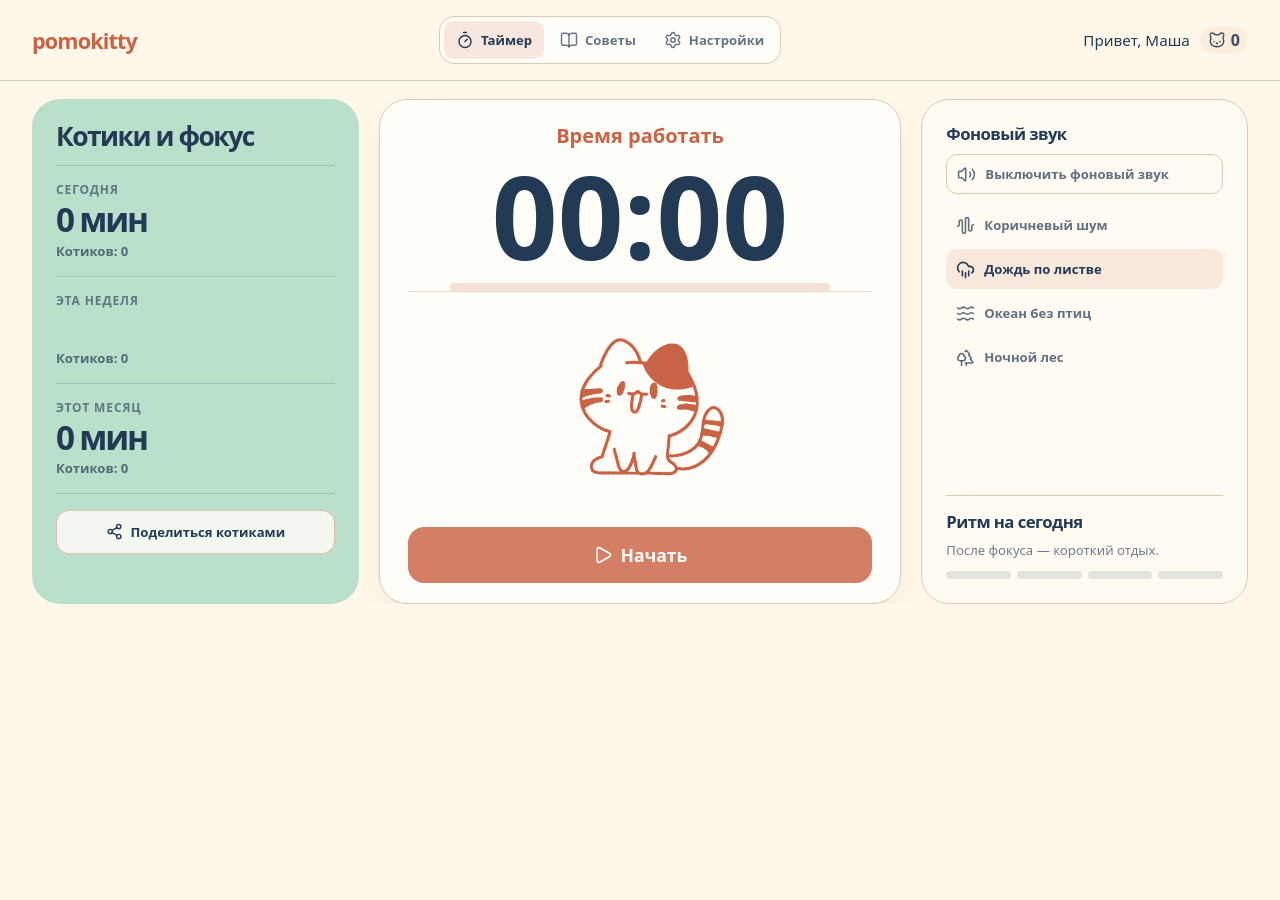
Test: persists a setting locale change and passes the effective locale to visible app copy
Step 1. Click the button "Настройки" → (714, 40), box [652,21,776,59]
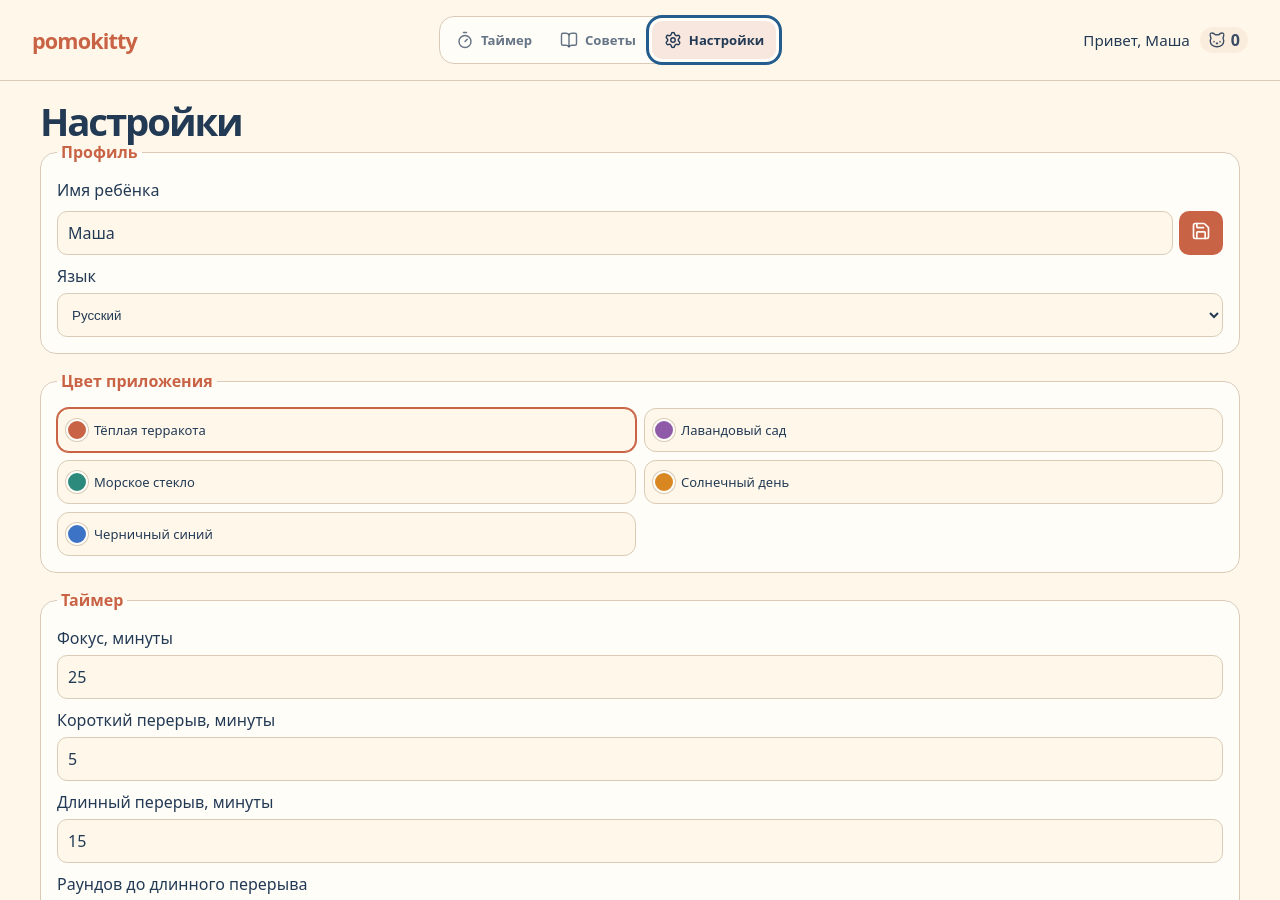
Step 2. Select "Английский" in the dropdown labelled "Язык" → (640, 315), box [57,293,1223,337]
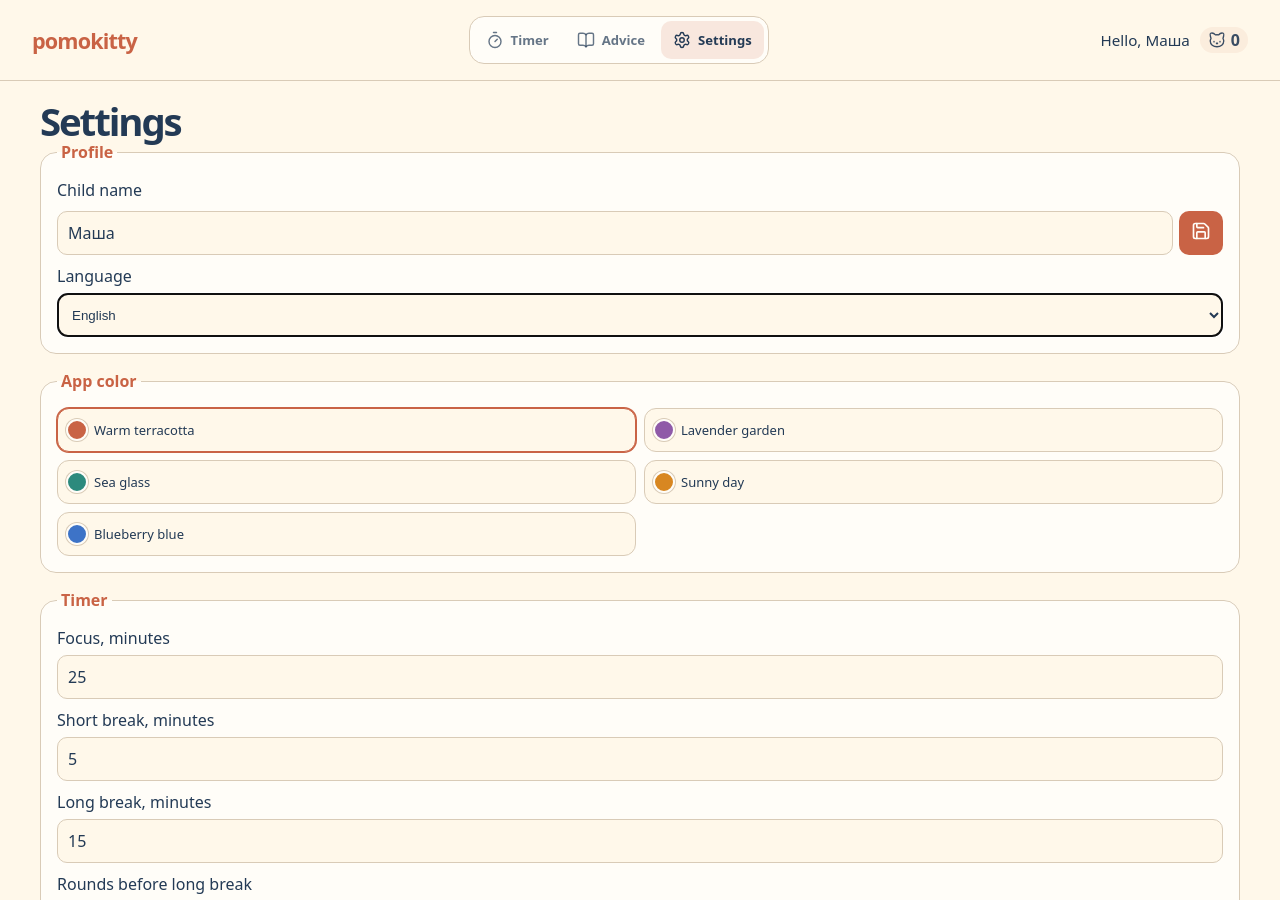
Now the text "Hello, Маша" is shown, box [1100,30,1190,50]
